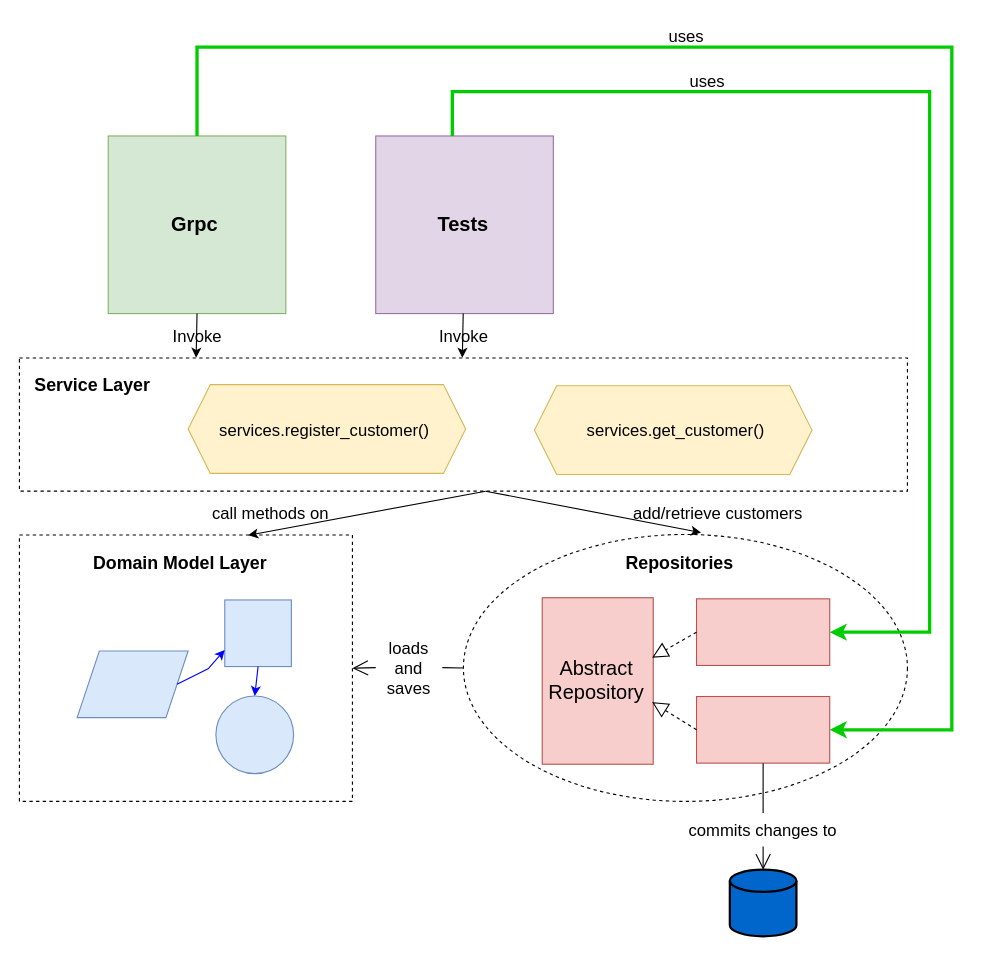
The diagram is 981 pixels wide and 956 high, and some of its shapes have lost their labels. Here are the shapes that lost their labels. From the top down, the centre of each, then its label:
At pixel 762 631: "FakeRepository (in-memory)".
At pixel 762 729: "SQLAlchemy Repository".
At pixel 762 902: "DB".
